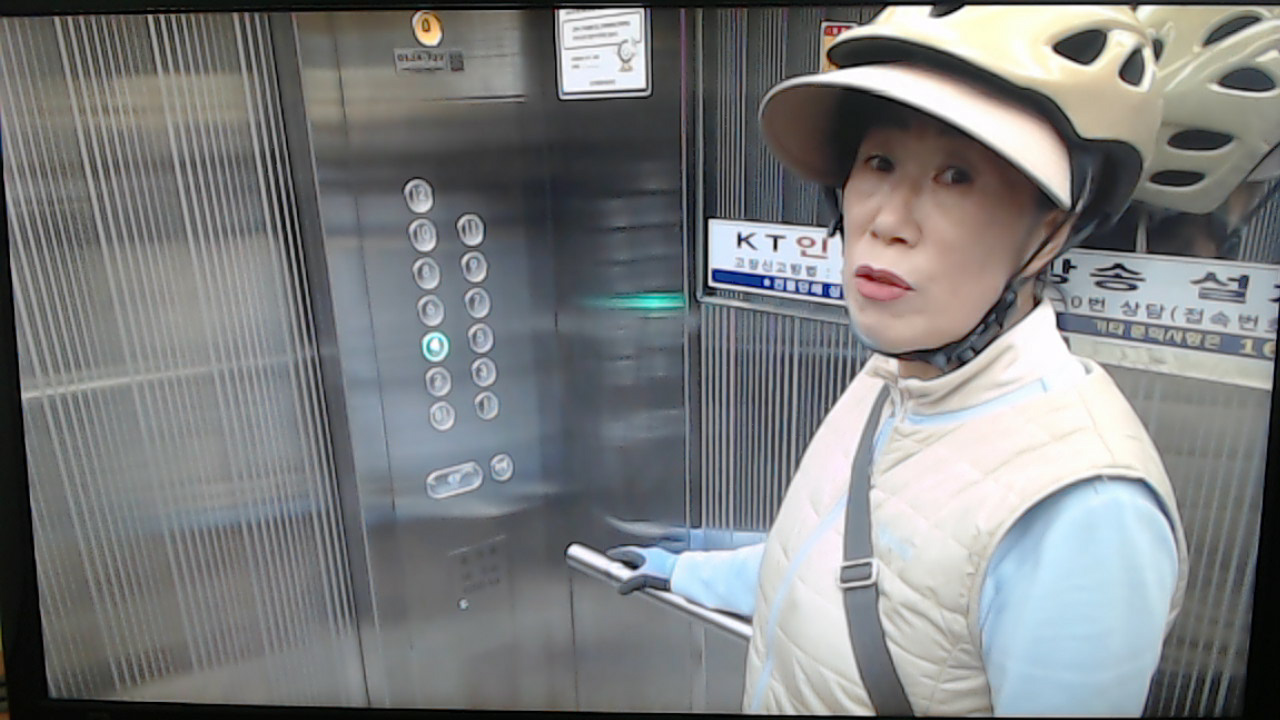Yakurut: (648, 12, 1216, 718)
